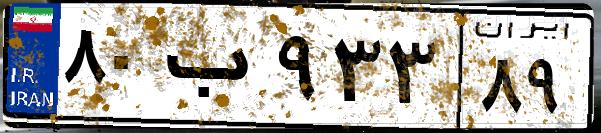0: (110, 28, 158, 98)
3: (385, 28, 445, 110), (330, 28, 385, 110)
8: (57, 26, 110, 100), (475, 38, 525, 113)
9: (270, 28, 330, 110), (525, 38, 570, 115)
ب: (158, 20, 270, 120)
